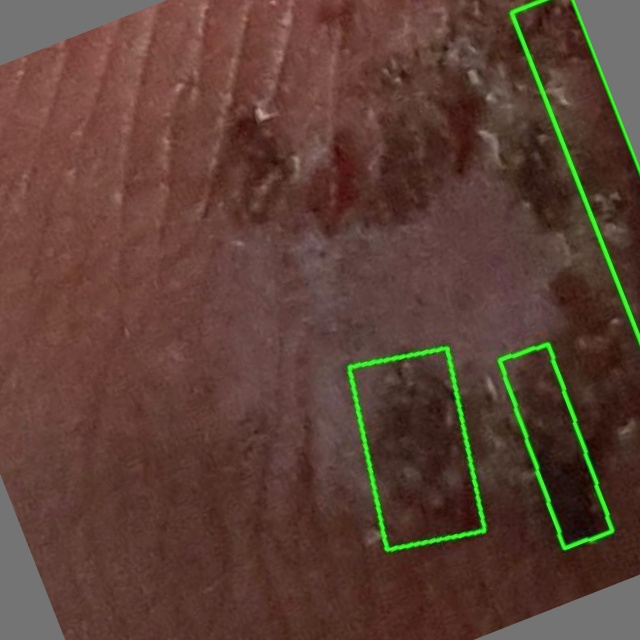Contact Dermatitis: (350, 348, 485, 550), (499, 344, 613, 548)
